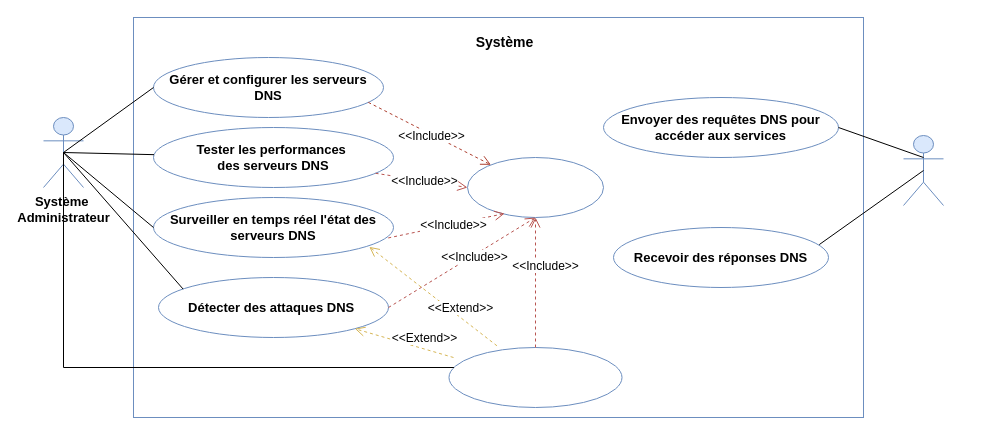
Some shapes in this 1000 by 435 pixel diagram are drawn without their labels. The shapes that lost their labels are listed below. From the top down, each one's centre as x and y in pixels, then its label:
At point 535,187: "S'authentifier".
At point 923,170: "Les clients Orange de la zone MEA".
At point 535,377: "Recevoir des alertes".
